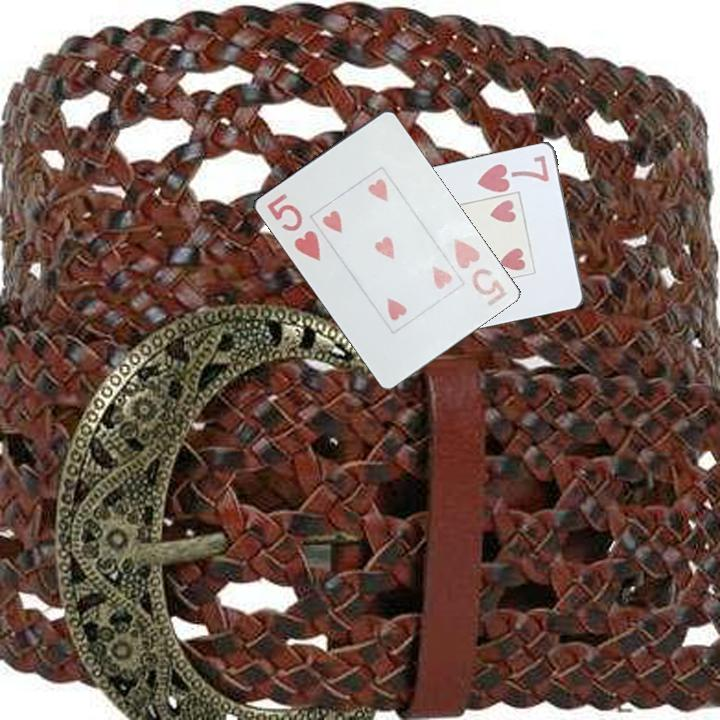5h: (449, 233, 510, 309), (263, 189, 323, 265)
7h: (474, 151, 552, 195)
